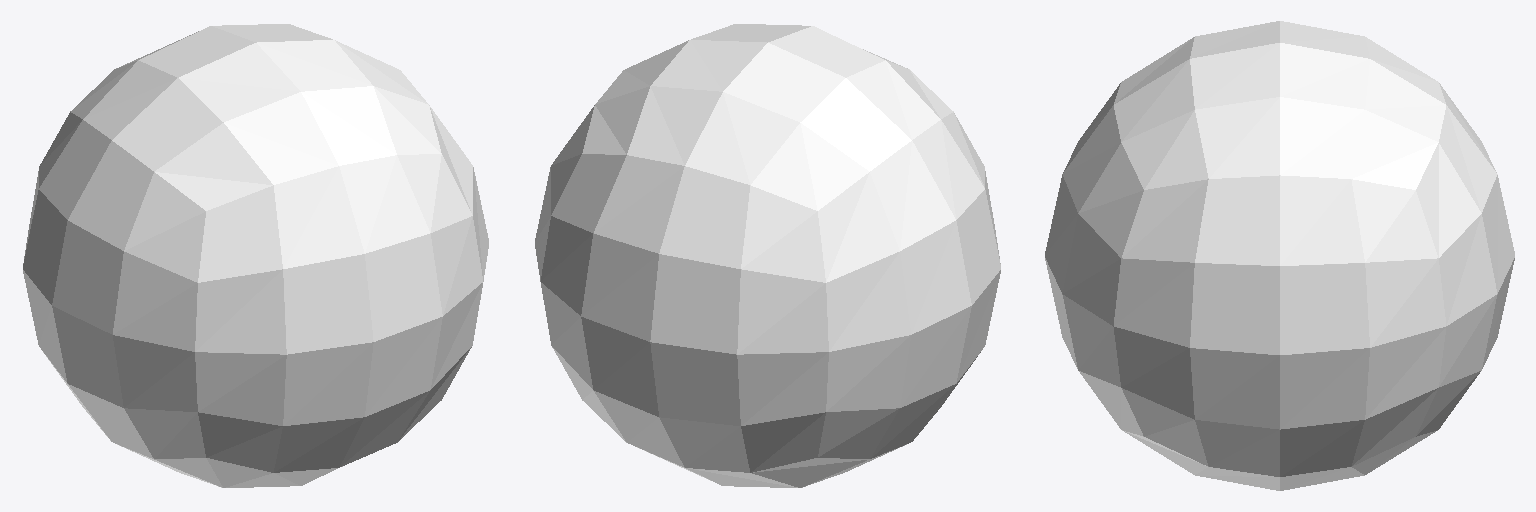
The model's file is Peach_castle.obj.
The picture shows the model from 3 angles: view 1: azimuth 30°, elevation 25°; view 2: azimuth 150°, elevation 25°; view 3: azimuth 270°, elevation 25°; orthographic projection.
Visible parts, largest first — view 1: Skybox_Cube.002; view 2: Skybox_Cube.002; view 3: Skybox_Cube.002.
Part boxes in pixels (x1,y1,x2,y2): Skybox_Cube.002: (23,24,488,487); Skybox_Cube.002: (535,24,1000,487); Skybox_Cube.002: (1045,21,1514,490).
Bounding box in the file's own units: 1886 × 1886 × 1886.